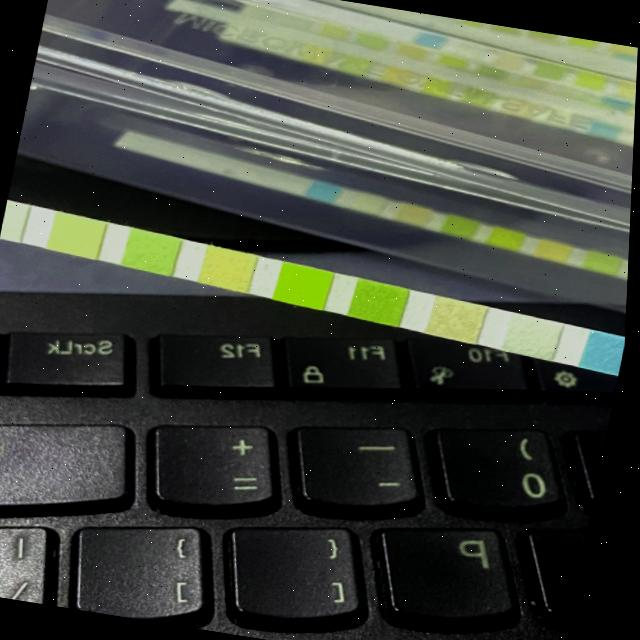Bilirubin: (507, 314, 563, 356)
Blood: (279, 266, 333, 306)
Glucose: (585, 333, 628, 373)
Ketone: (431, 300, 487, 341)
Nitrite: (1, 202, 28, 238)
Protein: (127, 232, 178, 272)
SpGravity: (352, 282, 408, 323)
Urobilinogen: (51, 214, 106, 256)
pH: (204, 250, 256, 288)
